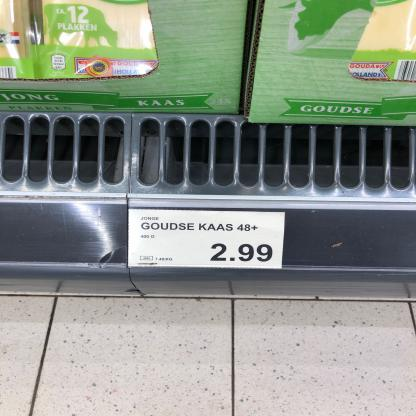prtg: (129, 210, 287, 269)
